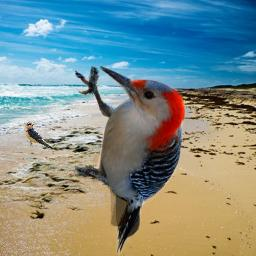Swallow: (24, 120, 55, 150)
Woodpecker: (75, 66, 185, 254)
